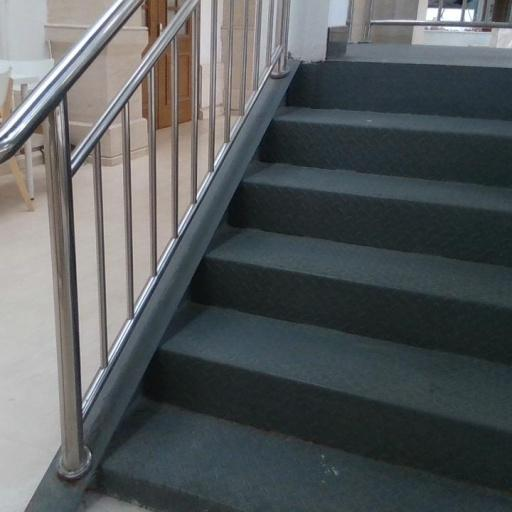stairs: (97, 62, 511, 511)
